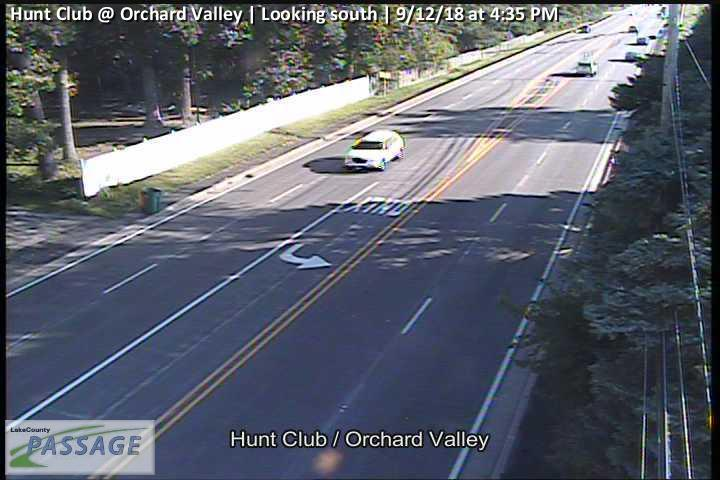Sedan: (344, 129, 405, 170), (577, 60, 597, 76), (626, 52, 639, 61), (580, 24, 590, 32), (637, 37, 648, 44), (628, 25, 638, 32)
